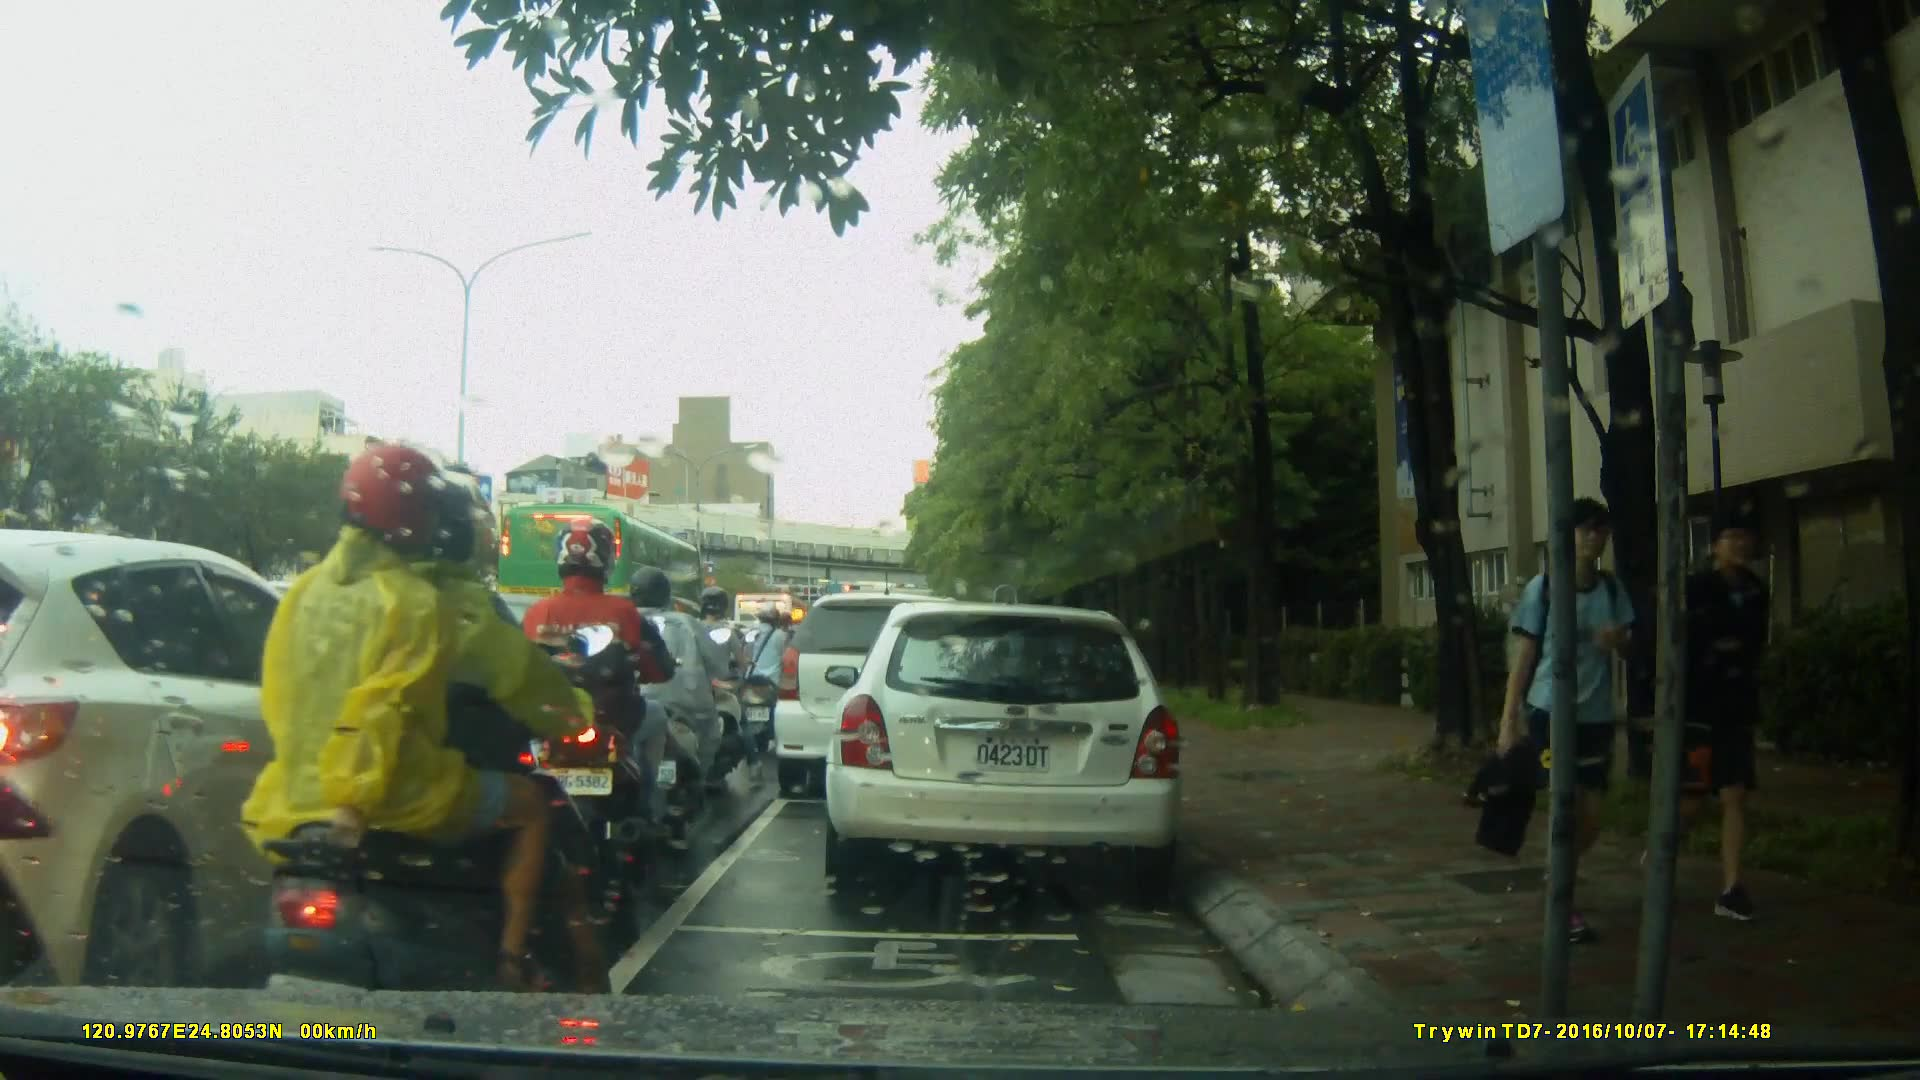pedestrian: (1459, 489, 1671, 957), (1638, 513, 1784, 930)
rider: (228, 443, 617, 1057), (512, 513, 673, 890), (600, 565, 731, 834), (678, 581, 760, 780), (740, 605, 804, 746)
vehicle: (2, 532, 459, 988), (831, 592, 1196, 897), (321, 590, 629, 776), (770, 590, 999, 804), (495, 501, 707, 636)
